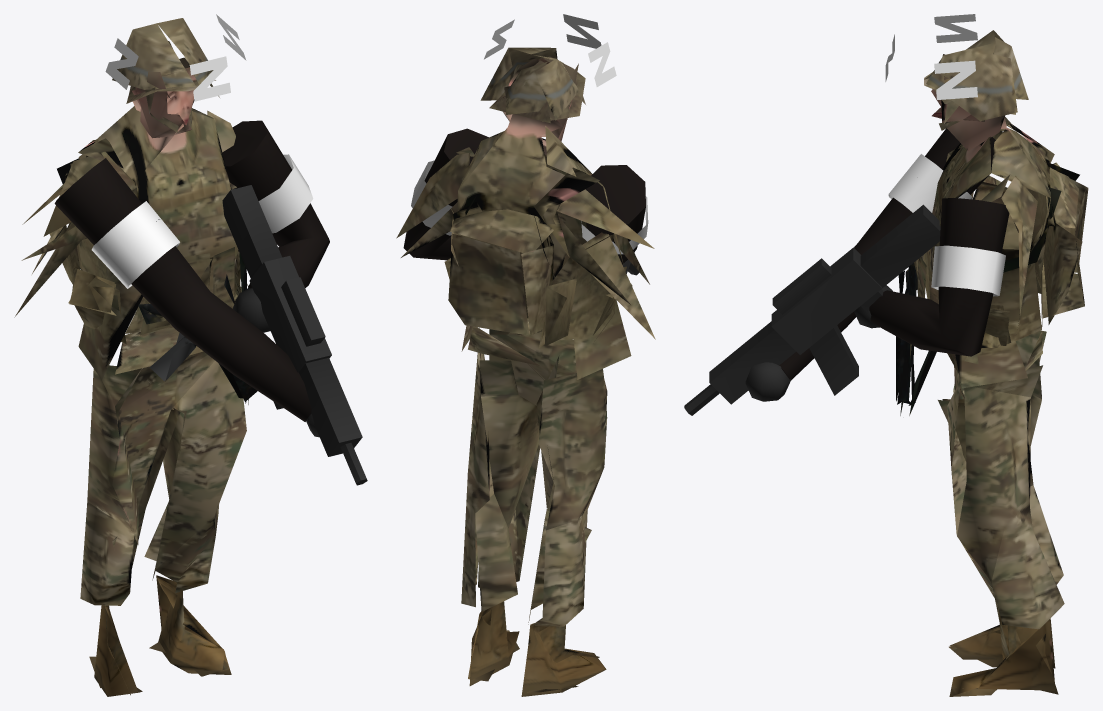
The model's file is us-ranger.glb.
3 renders of one model, left to right at view 1: azimuth 30°, elevation 25°; view 2: azimuth 150°, elevation 25°; view 3: azimuth 270°, elevation 25°, orthographic. The views are drawn at different scales.
Visible parts, largest first — view 1: limb_m_arms, limb_m_hips, limb_m_thigh_l, limb_m_thigh_r, limb_m_shin_l, limb_m_shin_r; view 2: limb_m_hips, limb_m_thigh_l, limb_m_thigh_r, limb_m_shin_l, limb_m_shin_r, limb_m_arms; view 3: limb_m_arms, limb_m_hips, limb_m_thigh_r, limb_m_shin_r, limb_m_shin_l, limb_m_thigh_l.
Boxes of the visible parts, left/top/right/bottom form: limb_m_arms: left=54, top=120, right=367, bottom=485; limb_m_hips: left=14, top=14, right=257, bottom=410; limb_m_thigh_l: left=87, top=355, right=214, bottom=544; limb_m_thigh_r: left=155, top=360, right=246, bottom=569; limb_m_shin_l: left=80, top=502, right=145, bottom=696; limb_m_shin_r: left=144, top=502, right=231, bottom=676; limb_m_hips: left=396, top=14, right=655, bottom=396; limb_m_thigh_l: left=499, top=334, right=607, bottom=530; limb_m_thigh_r: left=468, top=329, right=544, bottom=579; limb_m_shin_l: left=521, top=509, right=606, bottom=696; limb_m_shin_r: left=461, top=473, right=519, bottom=685; limb_m_arms: left=403, top=128, right=648, bottom=275; limb_m_arms: left=684, top=128, right=1009, bottom=415; limb_m_hips: left=885, top=14, right=1088, bottom=415; limb_m_thigh_r: left=897, top=381, right=1041, bottom=581; limb_m_shin_r: left=949, top=512, right=1064, bottom=696; limb_m_shin_l: left=949, top=485, right=1063, bottom=668; limb_m_thigh_l: left=942, top=330, right=1046, bottom=486.
Size of the model in its own units: 0.2397 by 0.5219 by 0.2969.
4 materials, 1 textured.
